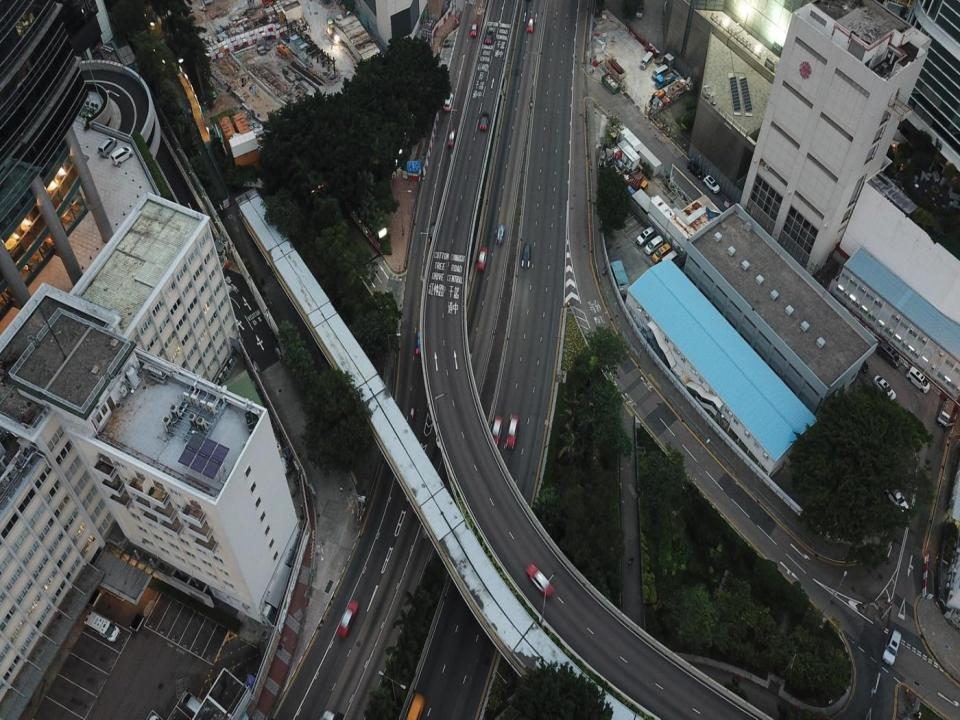bus: (405, 694, 424, 719), (651, 64, 668, 80), (640, 51, 653, 71)
car: (526, 561, 555, 597), (336, 600, 359, 637), (873, 375, 896, 400), (490, 415, 503, 448), (505, 415, 518, 448), (687, 161, 704, 179), (476, 248, 488, 272), (522, 243, 531, 270), (479, 113, 489, 131), (447, 128, 456, 148), (496, 225, 504, 246), (526, 16, 534, 33), (484, 32, 494, 45), (470, 22, 478, 37)
truck: (937, 397, 955, 428), (655, 68, 679, 88), (635, 0, 644, 19)
van: (84, 610, 120, 644), (906, 365, 930, 394), (882, 629, 901, 665), (876, 342, 901, 368), (181, 692, 206, 715), (887, 488, 909, 513), (652, 243, 671, 264), (644, 236, 663, 255), (636, 226, 654, 246), (703, 174, 720, 194), (658, 250, 678, 266), (416, 330, 425, 354), (443, 92, 453, 111), (428, 225, 437, 244)
